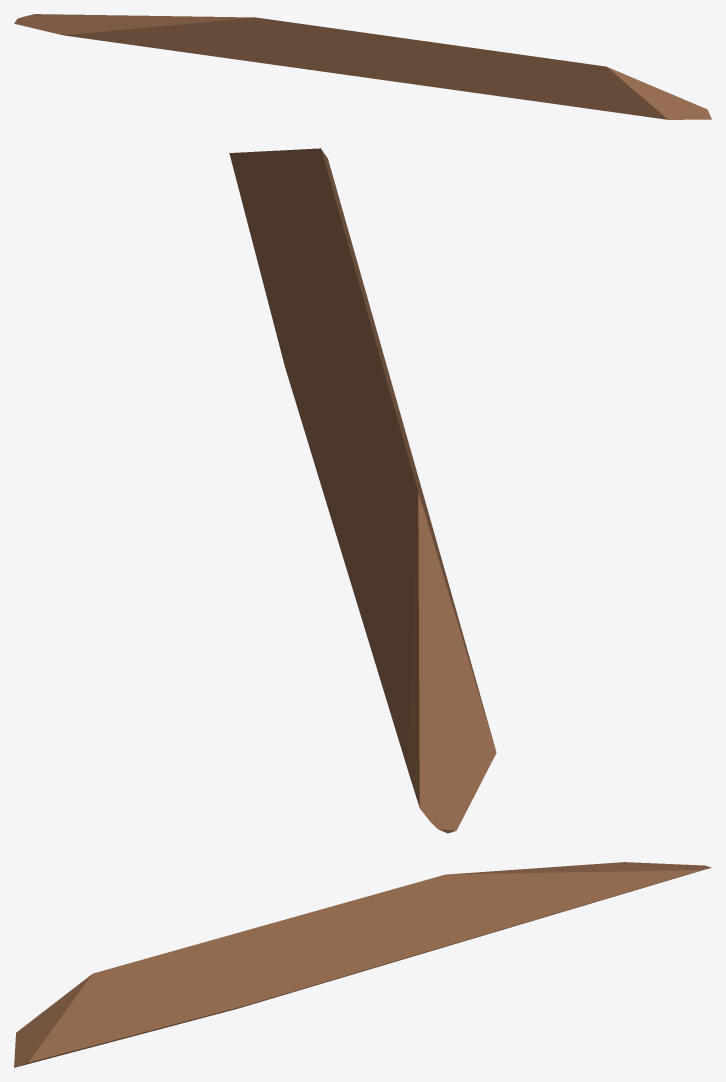
Rendered from WoodCellCube_003_cell_025.fbx.
The picture shows the model from 3 angles, top to bottom: view 1: azimuth 30°, elevation 25°; view 2: azimuth 150°, elevation 25°; view 3: azimuth 270°, elevation 25°; orthographic projection. The views are drawn at different scales.
Parts seen in each view (by area): view 1: WoodCellCube_003_cell_025; view 2: WoodCellCube_003_cell_025; view 3: WoodCellCube_003_cell_025.
Part boxes in pixels (x1=…): WoodCellCube_003_cell_025: x1=14, y1=14, x2=711, y2=119; WoodCellCube_003_cell_025: x1=229, y1=148, x2=496, y2=833; WoodCellCube_003_cell_025: x1=14, y1=862, x2=711, y2=1067.
Bounding box in the file's own units: 1.45 × 0.1865 × 1.13.
1 material, 1 textured.
